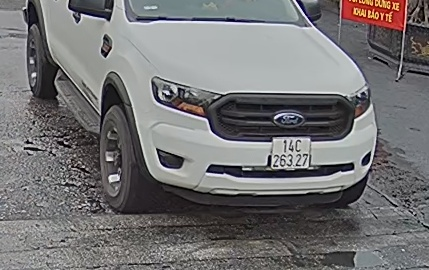vehicle plate: (270, 132, 312, 171)
